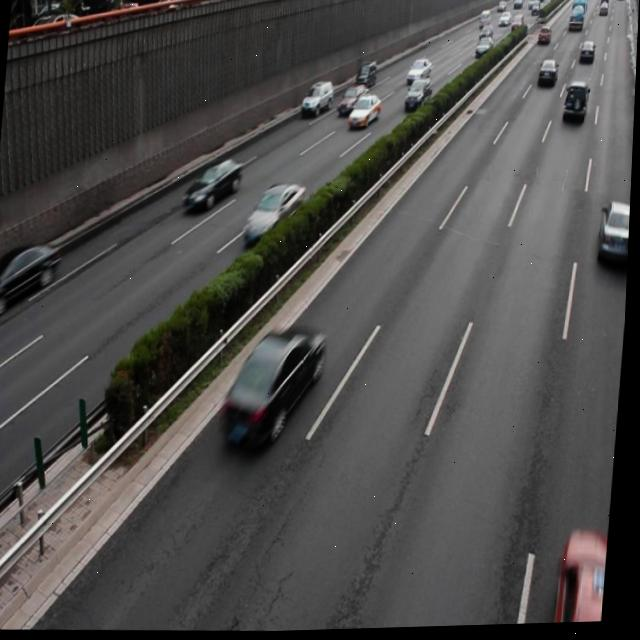car: (220, 325, 325, 452), (557, 529, 613, 627), (243, 180, 308, 249), (0, 237, 62, 307), (183, 156, 244, 215), (596, 201, 632, 268), (300, 80, 334, 118), (561, 83, 589, 128), (348, 95, 381, 131), (337, 86, 369, 119), (403, 78, 432, 114)
